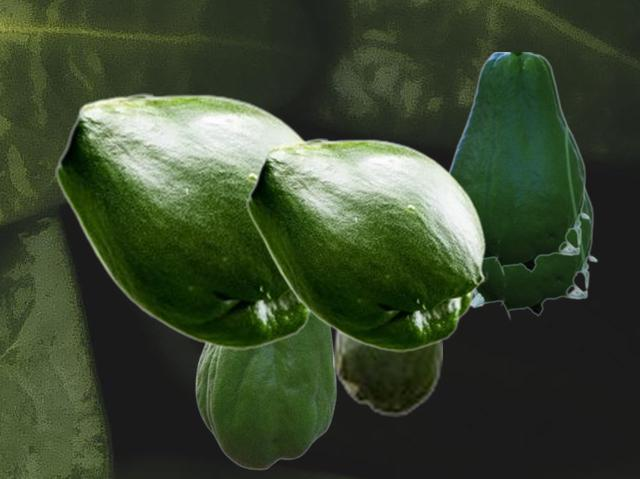sayote: (55, 93, 312, 349), (246, 138, 485, 351), (448, 52, 589, 275), (195, 316, 336, 469), (471, 187, 597, 319), (333, 330, 441, 416)
